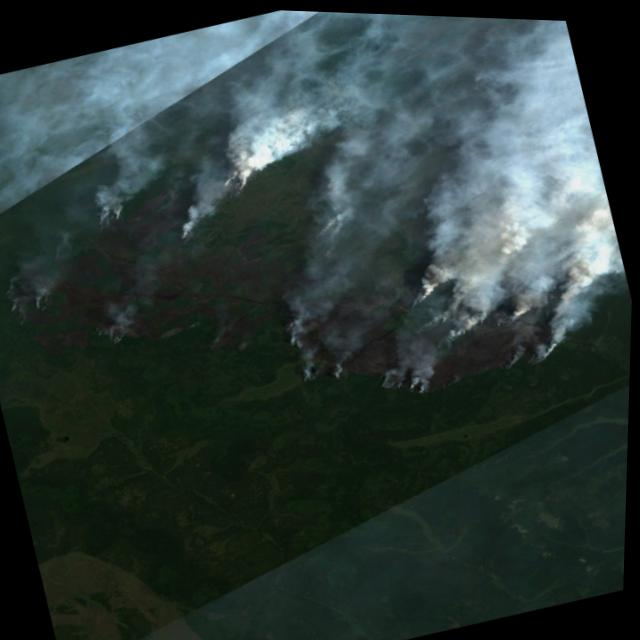fire: (266, 239, 608, 433), (0, 273, 69, 328), (80, 303, 154, 353), (84, 191, 131, 230), (163, 208, 208, 247), (215, 162, 257, 197)
